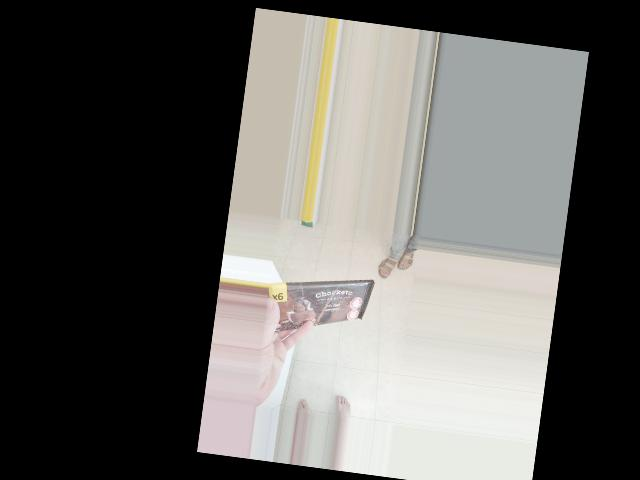chocolate: (260, 258, 377, 358)
